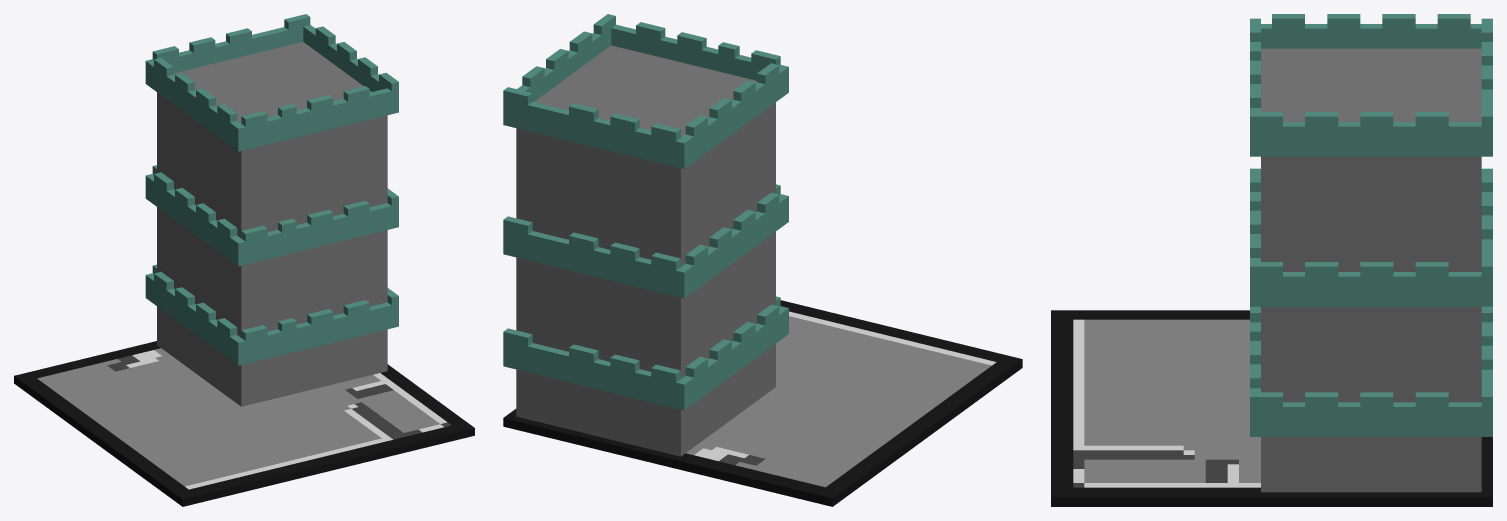
File: corner2.obj
3 views of the same model, side by side, from view 1: azimuth 30°, elevation 25°; view 2: azimuth 150°, elevation 25°; view 3: azimuth 270°, elevation 25° (orthographic). The views are drawn at different scales.
Parts seen in each view (by area): view 1: corner2; view 2: corner2; view 3: corner2.
Boxes of the visible parts, box(x1,y1,x2,y2) form: corner2: box(14, 14, 474, 506); corner2: box(503, 14, 1022, 506); corner2: box(1051, 14, 1492, 506).
Bounding box in the file's own units: 40 × 39 × 40.
1 material, 1 textured.
